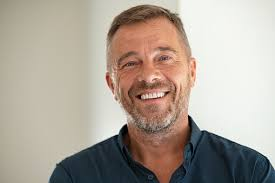s.white: (160, 65, 190, 88)
